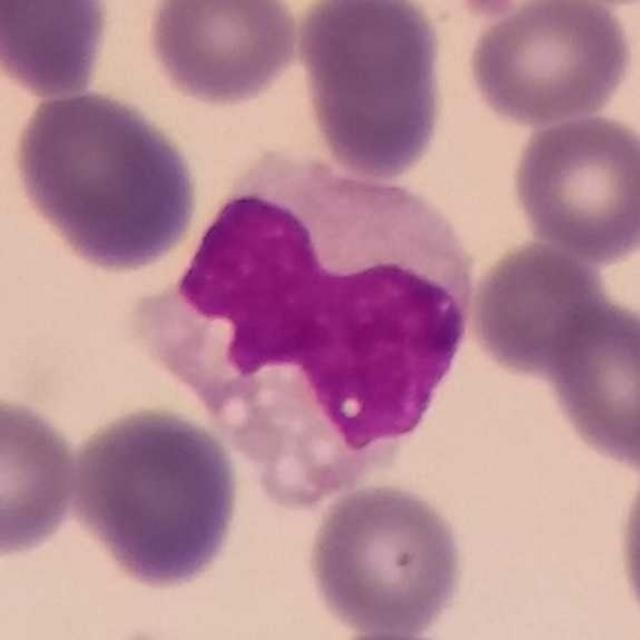Monocyte: (141, 152, 479, 507)
RBC: (7, 86, 204, 274), (66, 402, 245, 591), (294, 0, 450, 185), (302, 478, 469, 636), (460, 0, 636, 127), (465, 237, 610, 381), (507, 110, 640, 262), (142, 0, 304, 109), (542, 297, 640, 473), (0, 388, 83, 560), (0, 0, 115, 99), (612, 443, 640, 640), (446, 0, 620, 24)
